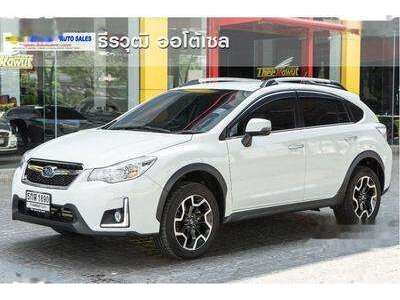pickup: (10, 76, 392, 259)
